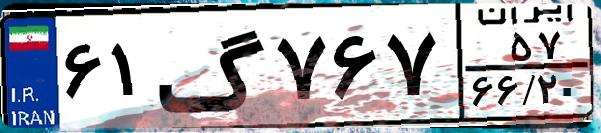0: (560, 70, 590, 125)
1: (110, 28, 156, 98)
2: (535, 70, 560, 125)
5: (508, 27, 537, 80)
6: (330, 28, 385, 110), (57, 26, 110, 100), (470, 70, 495, 125), (495, 70, 520, 125)
7: (270, 28, 330, 110), (385, 28, 445, 110), (537, 27, 568, 80)
گ: (156, 12, 270, 120)
